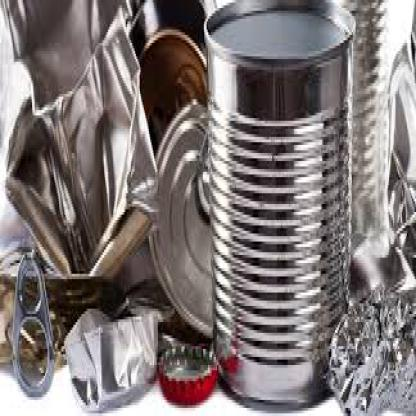Compsot: (201, 0, 352, 414), (0, 0, 156, 275), (146, 97, 225, 338), (0, 247, 122, 376), (335, 0, 385, 250), (66, 292, 170, 408), (324, 282, 414, 413), (130, 0, 208, 148), (387, 0, 415, 261), (154, 338, 220, 400), (350, 233, 414, 292)
